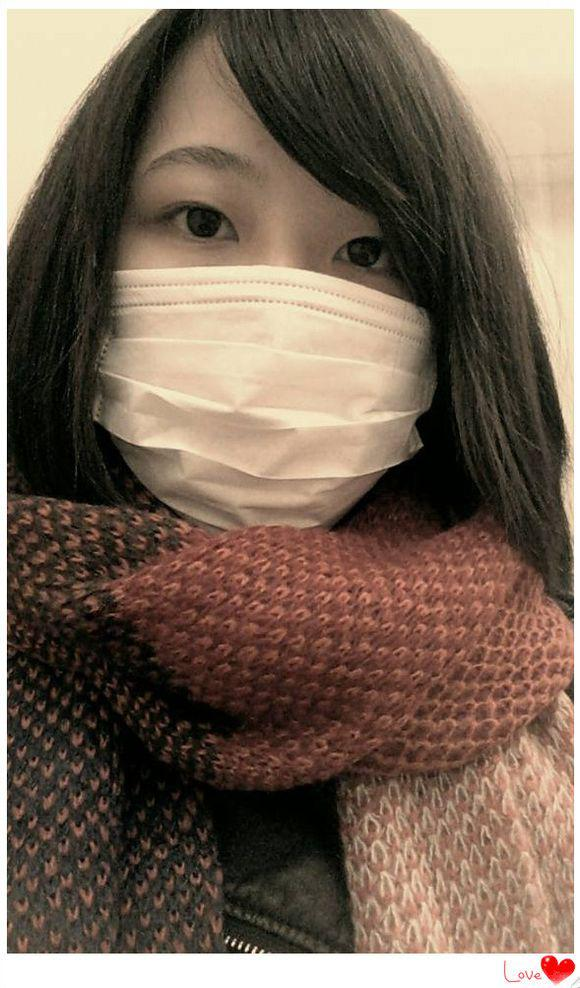OK: (107, 116, 457, 528)
